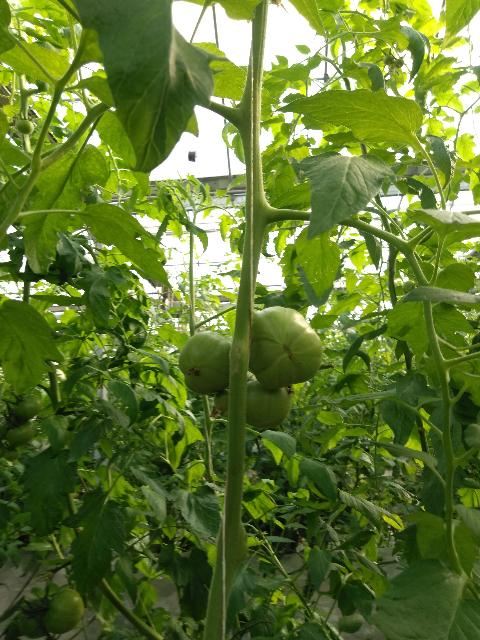b_green: (248, 307, 323, 389), (179, 331, 232, 396), (246, 379, 292, 428), (45, 588, 84, 634), (18, 597, 51, 639), (7, 419, 36, 447), (14, 394, 42, 421), (214, 387, 229, 410), (16, 119, 34, 136)
